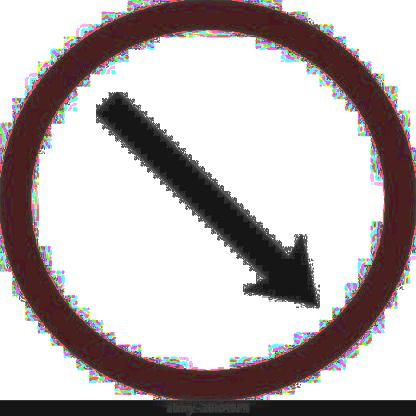Keep right: (0, 0, 413, 401)
